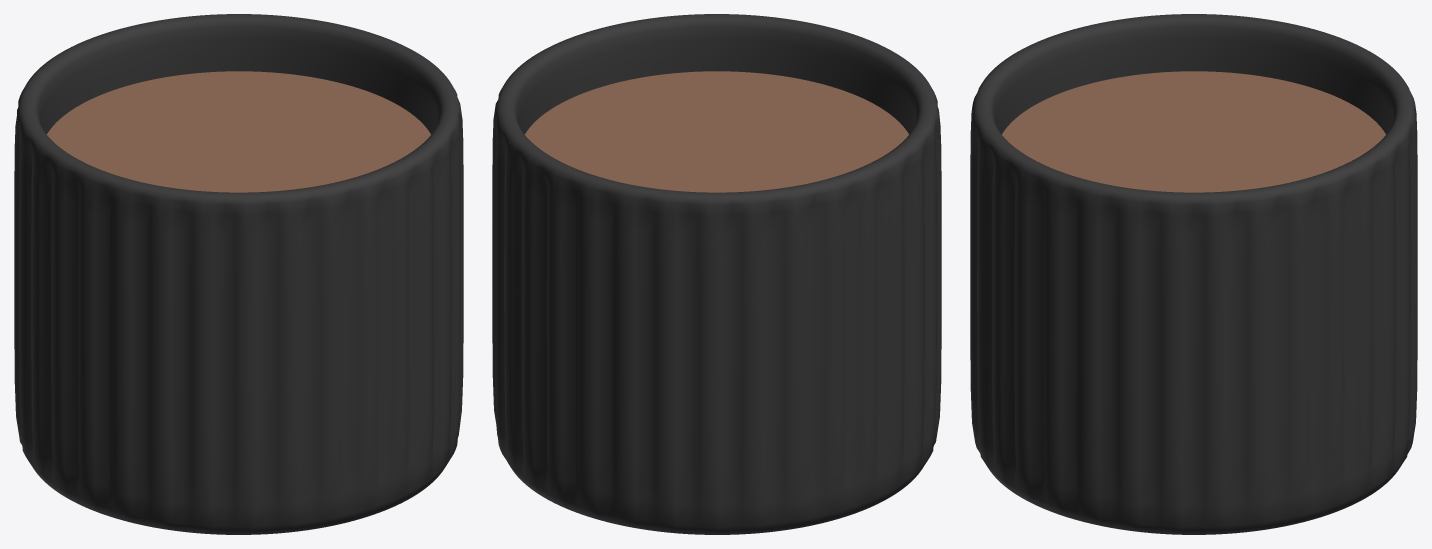
The model's file is fluted_black.glb.
The picture shows the model from 3 angles, left to right: view 1: azimuth 30°, elevation 25°; view 2: azimuth 150°, elevation 25°; view 3: azimuth 270°, elevation 25°; orthographic projection.
Parts seen in each view (by area): view 1: Circle.011, Circle.010; view 2: Circle.011, Circle.010; view 3: Circle.011, Circle.010.
Part boxes in pixels (<box>): Circle.011: <box>14,14,463,534</box>; Circle.010: <box>47,71,430,192</box>; Circle.011: <box>492,14,941,534</box>; Circle.010: <box>525,71,908,192</box>; Circle.011: <box>970,14,1417,534</box>; Circle.010: <box>1002,71,1385,192</box>.
Bounding box in the file's own units: 11.66 × 9.97 × 11.66.
